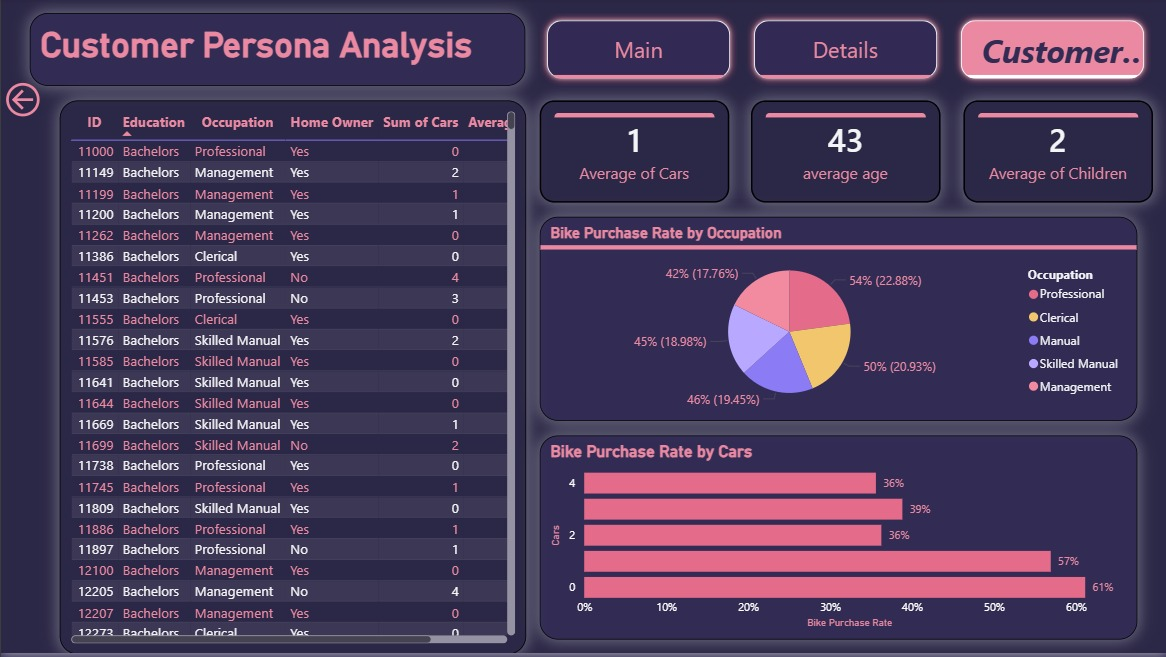

Layout of this report page (visuals, bound fields, positions):
{"tool":"powerbi","page":{"name":"Customer Deep Dive","canvas":[1280,720],"ordinal":2},"visuals":[{"type":"textbox","box":[32,16,544,80],"z":4000},{"type":"clusteredBarChart","fields":{"Y":["Table1.Bike Purchase Rate"],"Category":["Table1.Cars"]},"box":[592,480,656,224],"z":6000},{"type":"cardVisual","fields":{"Data":["Avg(Table1.Cars)"]},"box":[592,112,208,112],"z":10000},{"type":"cardVisual","fields":{"Data":["Table1.average age"]},"box":[824,112,208,112],"z":11000},{"type":"cardVisual","fields":{"Data":["Avg(Table1.Children)"]},"box":[1056,112,208,112],"z":12000},{"type":"pageNavigator","box":[592,16,672,80],"z":13000},{"type":"pieChart","fields":{"Category":["Table1.Occupation"],"Y":["Table1.Bike Purchase Rate"]},"box":[592,240,656,224],"z":13001},{"type":"tableEx","fields":{"Values":["Table1.ID","Table1.Education","Table1.Occupation","Table1.Home Owner","Sum(Table1.Cars)","Avg(Table1.Children)"]},"box":[64,112,512,608],"z":13002},{"type":"actionButton","box":[0,112,48,64],"z":13004}]}

Visuals, with their boxes in screenshot pixels (x1, y1, x2, y2), scaled from the page's 1280x720 canvas onto the 1166x657 screenshot:
textbox: pyautogui.locateOnScreen(29, 15, 525, 88)
clusteredBarChart - Table1.Bike Purchase Rate x Table1.Cars: pyautogui.locateOnScreen(539, 438, 1137, 642)
cardVisual - Avg(Table1.Cars): pyautogui.locateOnScreen(539, 102, 729, 204)
cardVisual - Table1.average age: pyautogui.locateOnScreen(751, 102, 940, 204)
cardVisual - Avg(Table1.Children): pyautogui.locateOnScreen(962, 102, 1151, 204)
pageNavigator: pyautogui.locateOnScreen(539, 15, 1151, 88)
pieChart - Table1.Occupation x Table1.Bike Purchase Rate: pyautogui.locateOnScreen(539, 219, 1137, 423)
tableEx - Table1.ID x Table1.Education: pyautogui.locateOnScreen(58, 102, 525, 656)
actionButton: pyautogui.locateOnScreen(0, 102, 44, 161)
